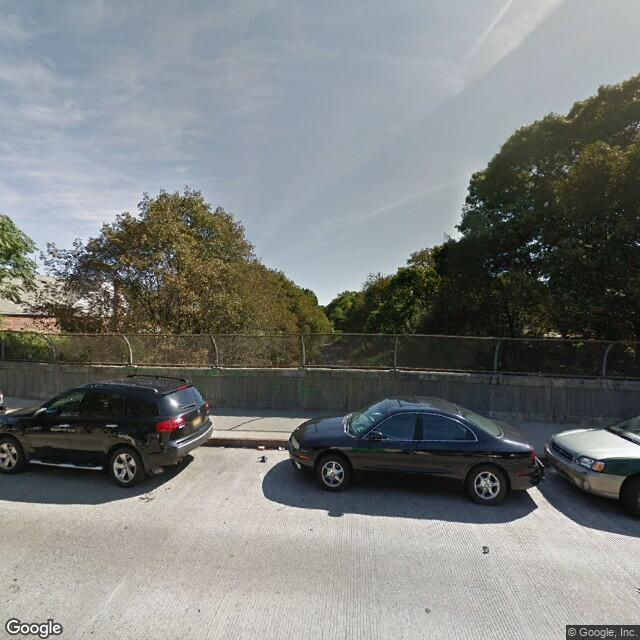litter: (250, 440, 291, 477)
